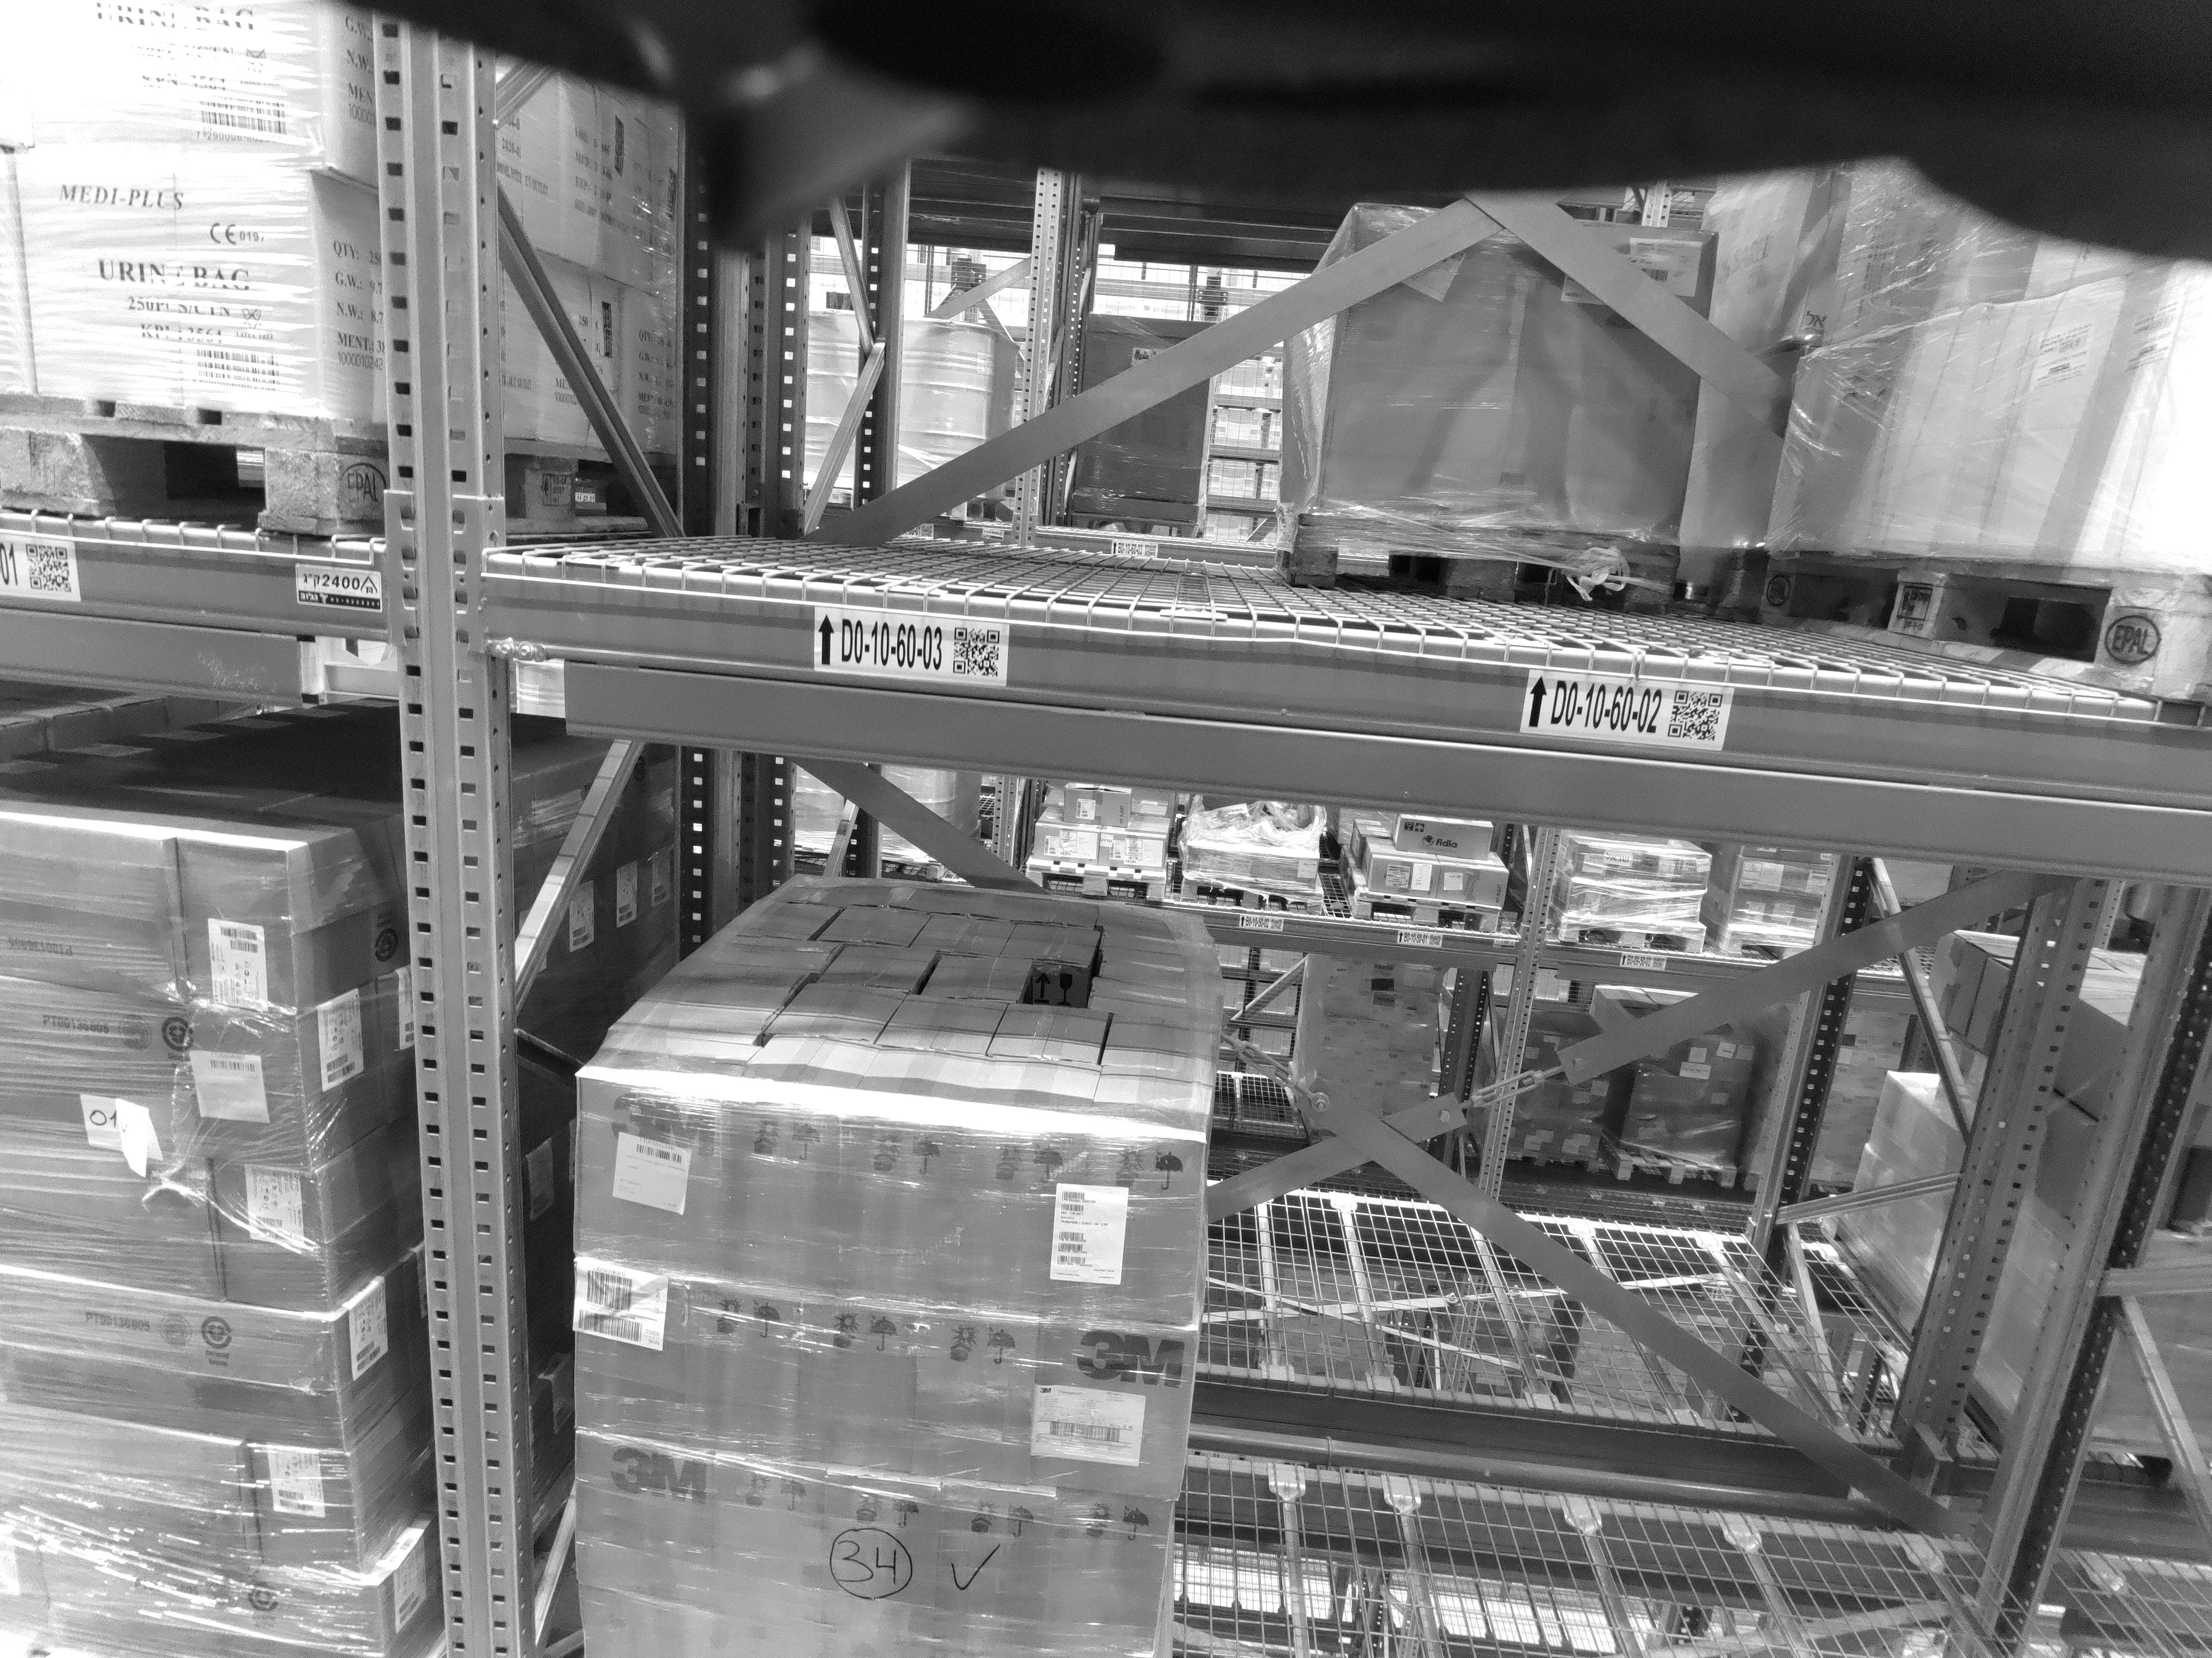empty-shelf: (732, 155, 1148, 587)
